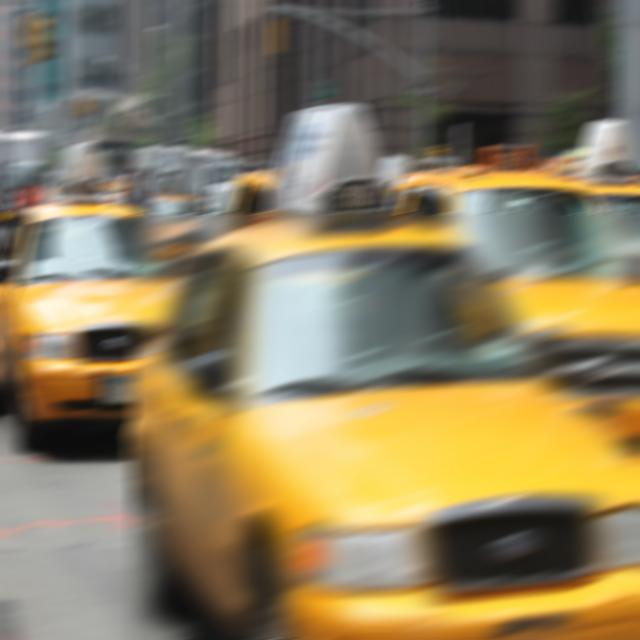Taxi: (129, 213, 640, 638)
